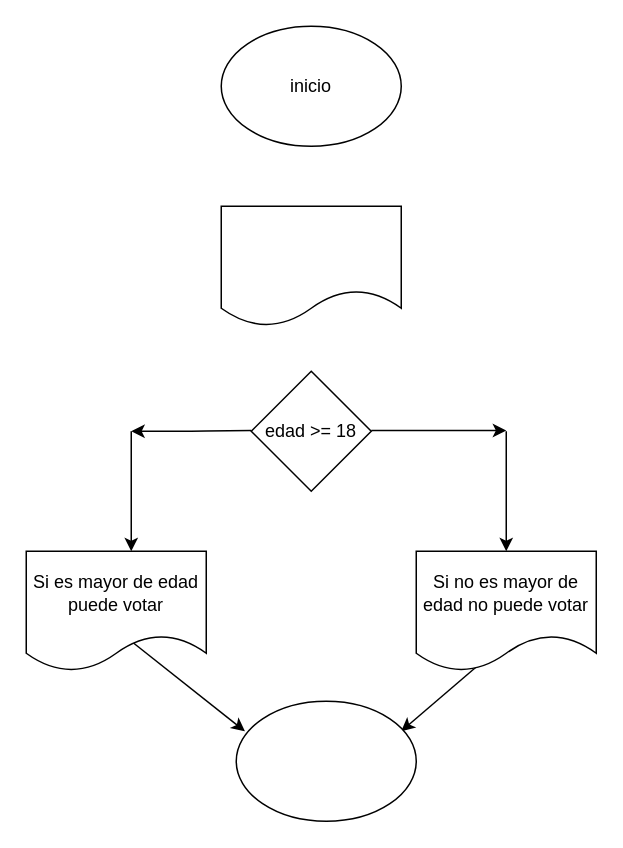
The diagram is 623 pixels wide and 848 high, and some of its shapes have lost their labels. The shapes that lost their labels are listed below. From the top down, each one's centre as x and y in pixels, then its label:
At (310,265): "Definir la edad".
At (325,760): "fin".
